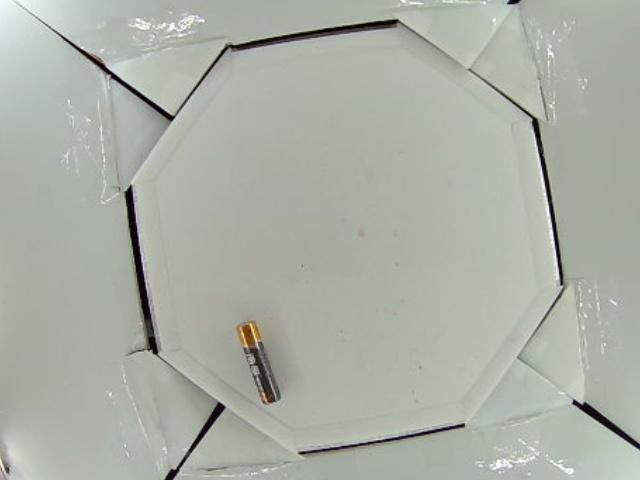Battery: (238, 319, 281, 408)
